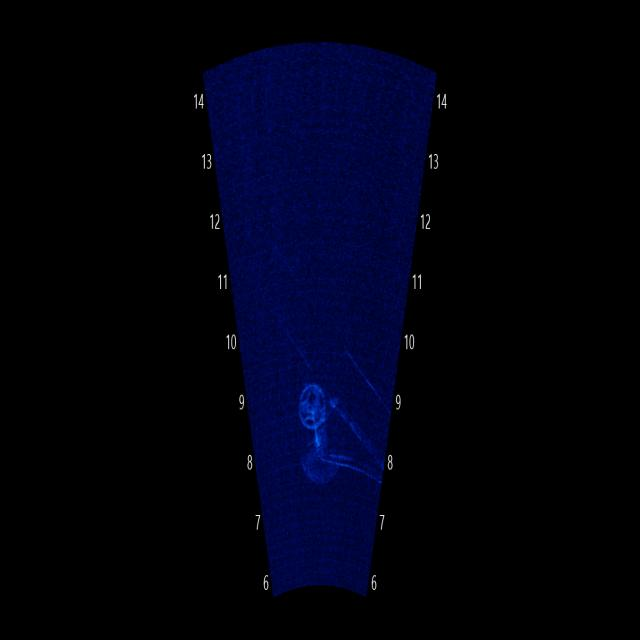circle: (289, 359, 345, 439)
